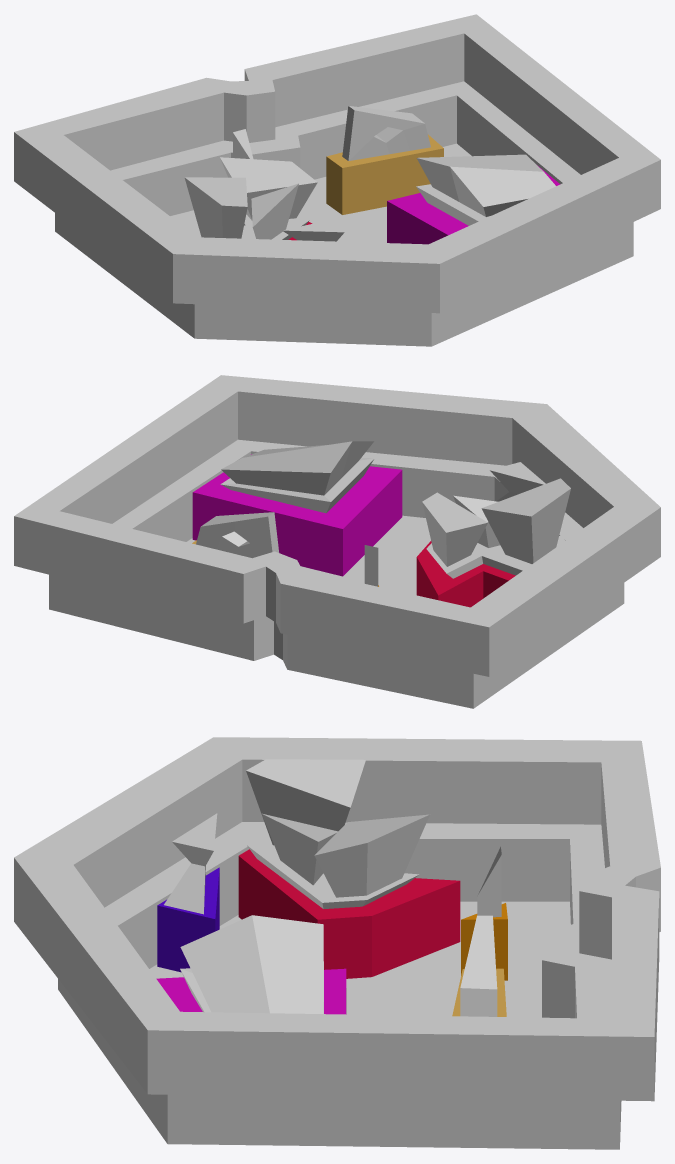
Rendered from level2_1.fbx.
The picture shows the model from 3 angles, top to bottom: view 1: azimuth 30°, elevation 25°; view 2: azimuth 150°, elevation 25°; view 3: azimuth 270°, elevation 25°; orthographic projection. The views are drawn at different scales.
Visible parts, largest first — view 1: 2-1_upper_wall, 2-1_lower_wall, 2-1_pillar_red_top, 2-1_pillar_magenta_top, 2-1_pillar_yellow, 2-1_pillar_yellow_top, 2-1_floor, 2-1_pillar_magenta, 2-1_pillar_purple_top, 2-1_pillar_orange_top; view 2: 2-1_upper_wall, 2-1_lower_wall, 2-1_pillar_magenta, 2-1_pillar_red_top, 2-1_pillar_magenta_top, 2-1_floor, 2-1_pillar_red, 2-1_pillar_yellow_top, 2-1_pillar_purple_top, 2-1_pillar_orange_top; view 3: 2-1_upper_wall, 2-1_lower_wall, 2-1_pillar_red_top, 2-1_pillar_red, 2-1_pillar_magenta_top, 2-1_floor, 2-1_pillar_purple, 2-1_pillar_yellow_top, 2-1_pillar_purple_top, 2-1_pillar_magenta, 2-1_pillar_orange, 2-1_pillar_orange_top (+1 smaller).
Boxes of the visible parts, <box> form: 2-1_upper_wall: <box>14,14,660,313</box>; 2-1_lower_wall: <box>55,81,633,346</box>; 2-1_pillar_red_top: <box>184,157,317,239</box>; 2-1_pillar_magenta_top: <box>416,154,555,225</box>; 2-1_pillar_yellow: <box>326,134,443,214</box>; 2-1_pillar_yellow_top: <box>342,106,430,160</box>; 2-1_floor: <box>170,143,471,242</box>; 2-1_pillar_magenta: <box>387,165,560,244</box>; 2-1_pillar_purple_top: <box>282,217,344,241</box>; 2-1_pillar_orange_top: <box>233,129,253,159</box>; 2-1_upper_wall: <box>14,375,660,676</box>; 2-1_lower_wall: <box>49,439,624,708</box>; 2-1_pillar_magenta: <box>192,454,402,576</box>; 2-1_pillar_red_top: <box>422,478,570,578</box>; 2-1_pillar_magenta_top: <box>220,441,374,513</box>; 2-1_floor: <box>187,515,430,595</box>; 2-1_pillar_red: <box>416,541,515,607</box>; 2-1_pillar_yellow_top: <box>196,512,279,558</box>; 2-1_pillar_purple_top: <box>490,462,545,501</box>; 2-1_pillar_orange_top: <box>364,545,378,586</box>; 2-1_upper_wall: <box>14,737,660,1101</box>; 2-1_lower_wall: <box>58,822,621,1149</box>; 2-1_pillar_red_top: <box>246,759,429,908</box>; 2-1_pillar_red: <box>238,849,460,978</box>; 2-1_pillar_magenta_top: <box>180,915,323,1013</box>; 2-1_floor: <box>149,901,570,1017</box>; 2-1_pillar_purple: <box>157,867,219,972</box>; 2-1_pillar_yellow_top: <box>460,915,497,1016</box>; 2-1_pillar_purple_top: <box>164,813,217,914</box>; 2-1_pillar_magenta: <box>156,968,346,1014</box>; 2-1_pillar_orange: <box>461,903,507,980</box>; 2-1_pillar_orange_top: <box>477,846,501,917</box>.
Size of the model in its own units: 21.05 by 4.98 by 19.2.
